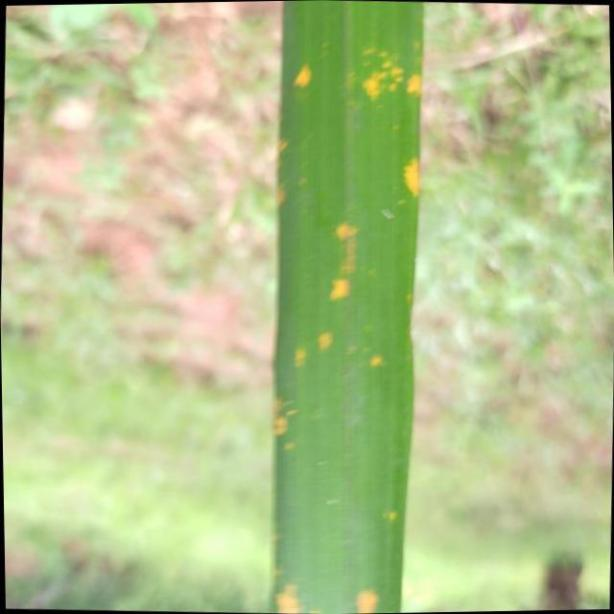Kalium: (273, 0, 427, 614)
